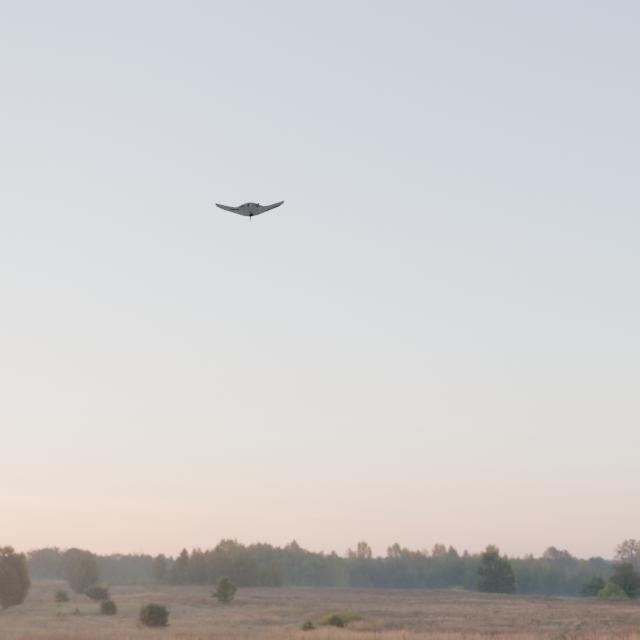Airaplan: (215, 200, 284, 221)
